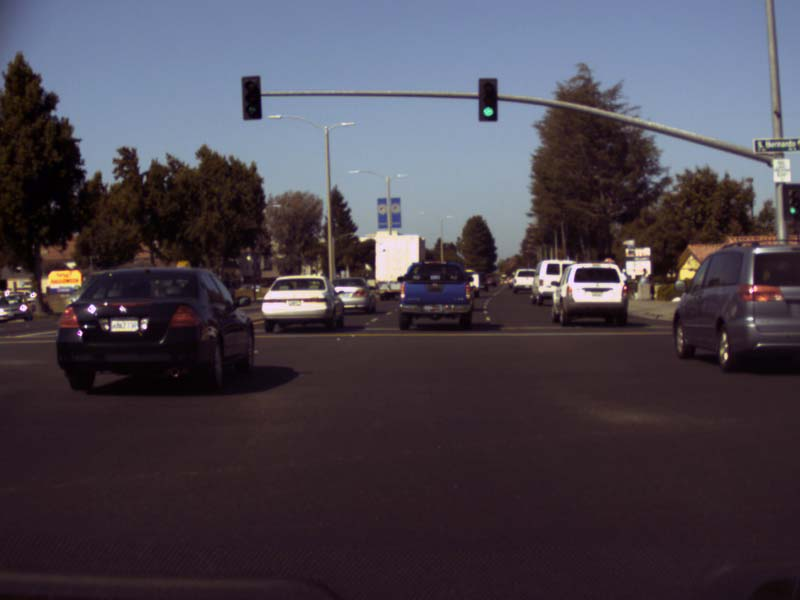Green: (242, 76, 260, 120), (479, 78, 497, 121)
